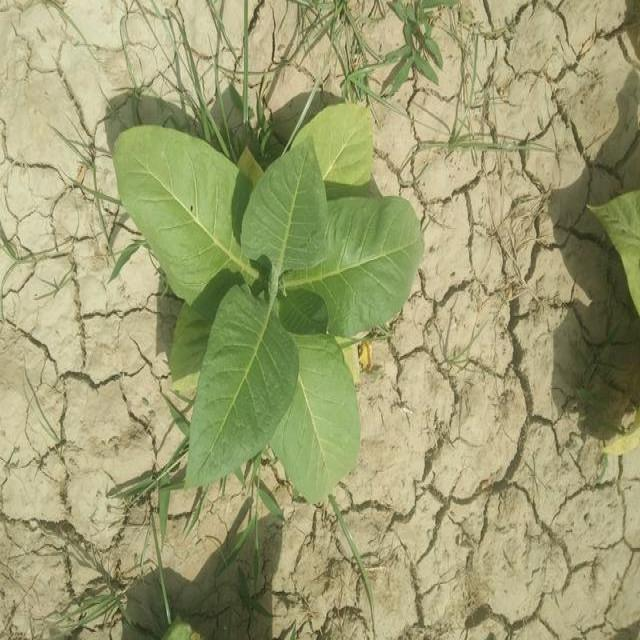crop: (112, 115, 428, 497), (585, 185, 640, 314)
